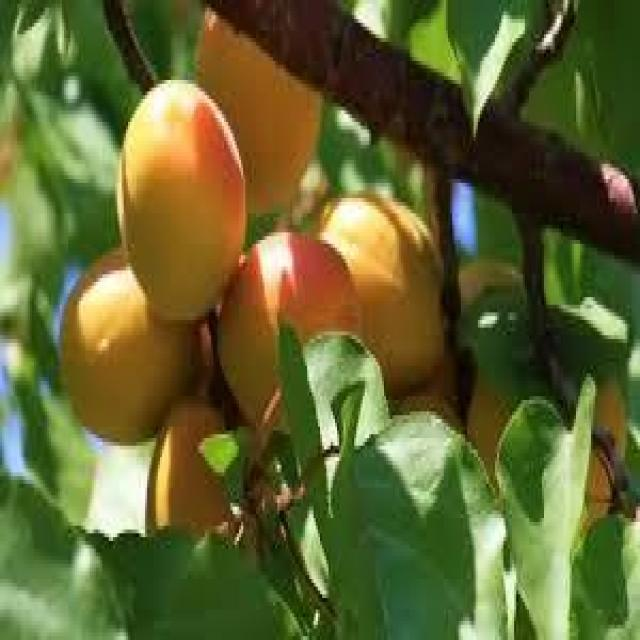kayisi: (294, 176, 450, 412), (212, 220, 367, 436), (57, 242, 213, 453), (116, 73, 248, 321)
yaprak: (322, 372, 523, 640), (488, 367, 604, 640), (274, 314, 396, 572), (61, 518, 316, 640)
